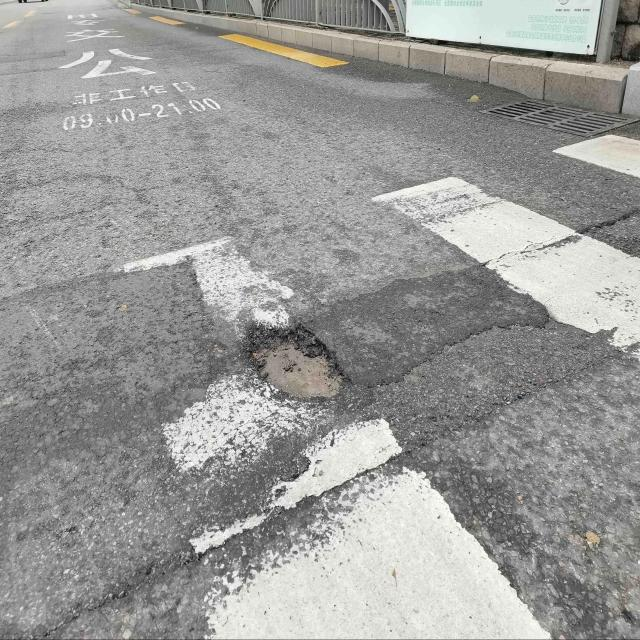Pothole: (241, 325, 347, 412)
